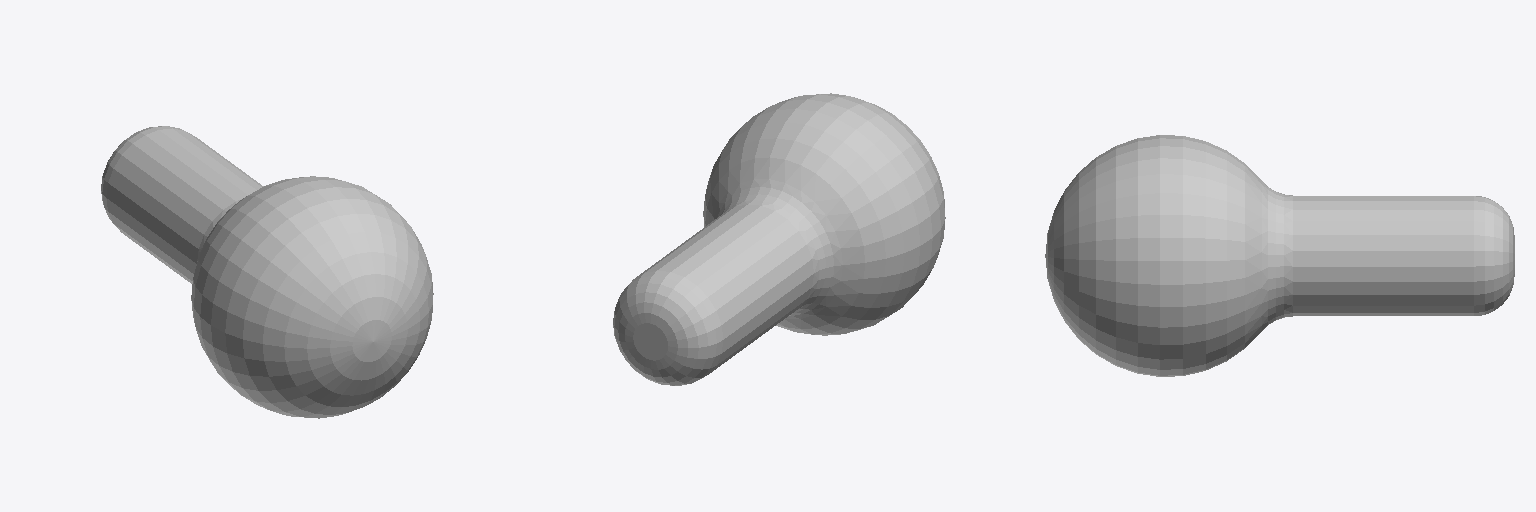
File: LittleGuyForProject v3.obj
The picture shows the model from 3 angles: view 1: azimuth 30°, elevation 25°; view 2: azimuth 150°, elevation 25°; view 3: azimuth 270°, elevation 25°; orthographic projection.
Visible parts, largest first — view 1: Body1; view 2: Body1; view 3: Body1.
Part boxes in pixels (x1,y1,x2,y2): Body1: (101,126,433,418); Body1: (613,93,945,385); Body1: (1045,135,1514,376).
Bounding box in the file's own units: 3.8 × 3.8 × 7.36.